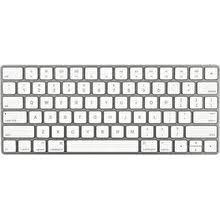keyboard: (2, 63, 218, 157)
